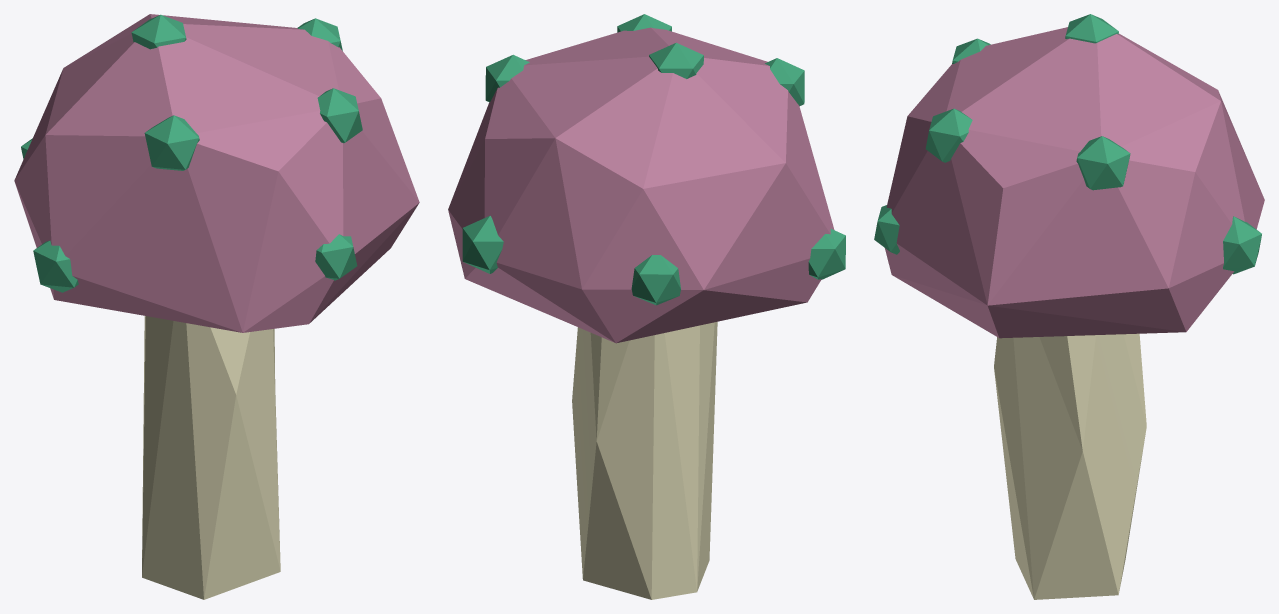
File: shroom1-9.fbx
The picture shows the model from 3 angles, left to right: view 1: azimuth 30°, elevation 25°; view 2: azimuth 150°, elevation 25°; view 3: azimuth 270°, elevation 25°; orthographic projection. The views are drawn at different scales.
Parts seen in each view (by area): view 1: Mushroom_01_LOD0; view 2: Mushroom_01_LOD0; view 3: Mushroom_01_LOD0.
Part boxes in pixels (box(x1,y1,x2,y2)): Mushroom_01_LOD0: box(14, 14, 419, 599); Mushroom_01_LOD0: box(448, 14, 845, 599); Mushroom_01_LOD0: box(874, 14, 1264, 599).
Size of the model in its own units: 22.52 by 34.07 by 22.22.
